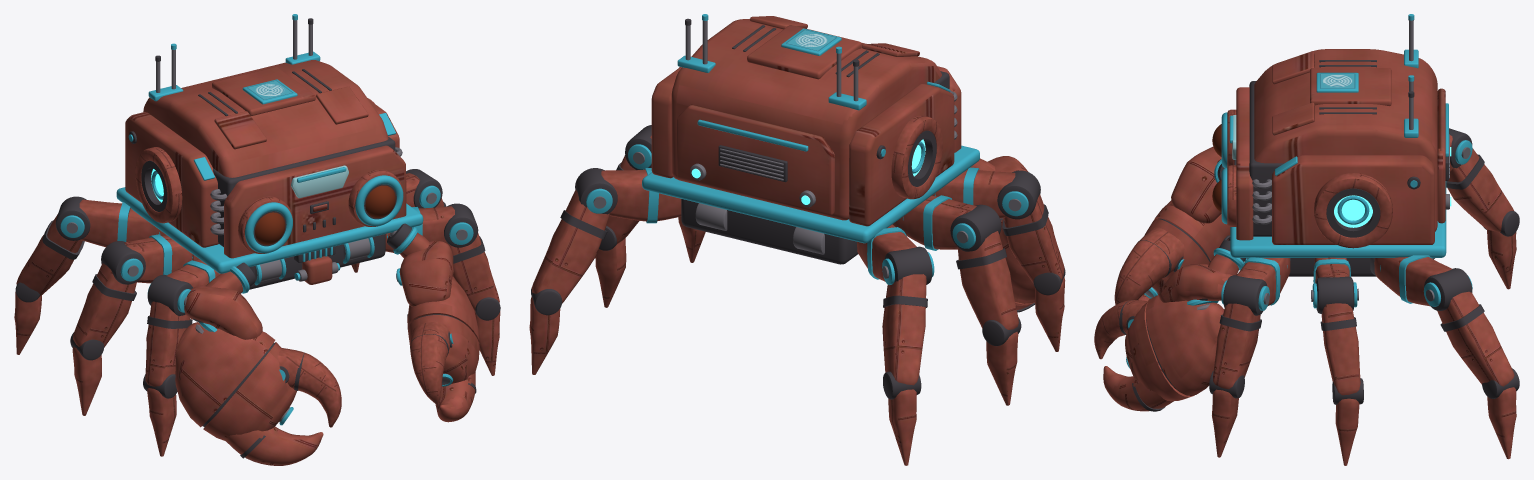
Rendered from boss_act2_crab.glb.
The picture shows the model from 3 angles, left to right: view 1: azimuth 30°, elevation 25°; view 2: azimuth 150°, elevation 25°; view 3: azimuth 270°, elevation 25°; orthographic projection. The views are drawn at different scales.
Visible parts, largest first — view 1: Body_Chassis, Claw_R, Claw_L, Leg_R2, Leg_R3, Leg_R1, Leg_L1, SideLens_R, Claw_R_Pincer, Eye_L, Eye_R, Claw_L_Pincer (+3 smaller); view 2: Body_Chassis, Leg_L3, Leg_R2, Leg_R3, Leg_R1, SideLens_R, Leg_L2, Claw_R, Antenna_R, Antenna_L, Leg_L1; view 3: Body_Chassis, Claw_L, Leg_L3, Leg_L1, Leg_L2, Claw_R, Leg_R3, SideLens_L, Claw_R_Pincer, Claw_L_Pincer, Eye_L, Eye_R (+2 smaller).
Boxes of the visible parts, box(x1,y1,x2,y2) form: Body_Chassis: box(116, 60, 423, 289); Claw_R: box(175, 262, 323, 465); Claw_L: box(387, 223, 479, 422); Leg_R2: box(70, 234, 198, 415); Leg_R3: box(14, 196, 166, 354); Leg_R1: box(143, 259, 220, 456); Leg_L1: box(385, 203, 500, 375); SideLens_R: box(135, 147, 182, 223); Claw_R_Pincer: box(277, 348, 341, 427); Eye_L: box(348, 169, 403, 226); Eye_R: box(238, 196, 292, 253); Claw_L_Pincer: box(410, 321, 453, 405); Body_Chassis: box(642, 16, 979, 264); Leg_L3: box(529, 168, 681, 374); Leg_R2: box(892, 195, 1021, 405); Leg_R3: box(857, 224, 934, 465); Leg_R1: box(932, 167, 1065, 351); SideLens_R: box(891, 115, 942, 199); Leg_L2: box(595, 125, 651, 307); Claw_R: box(970, 156, 1034, 312); Antenna_R: box(828, 46, 866, 110); Antenna_L: box(677, 14, 715, 72); Leg_L1: box(678, 216, 705, 262); Body_Chassis: box(1229, 49, 1451, 276); Claw_L: box(1103, 240, 1246, 411); Leg_L3: box(1370, 255, 1519, 459); Leg_L1: box(1209, 257, 1290, 457); Leg_L2: box(1311, 257, 1363, 465); Claw_R: box(1138, 147, 1230, 301); Leg_R3: box(1446, 128, 1519, 289); SideLens_L: box(1314, 173, 1392, 248); Claw_R_Pincer: box(1114, 227, 1184, 304); Claw_L_Pincer: box(1094, 300, 1147, 359); Eye_L: box(1212, 165, 1236, 226); Eye_R: box(1212, 109, 1236, 168).
Bounding box in the file's own units: 3.44 × 2.76 × 3.23.
9 materials, 2 textured.
